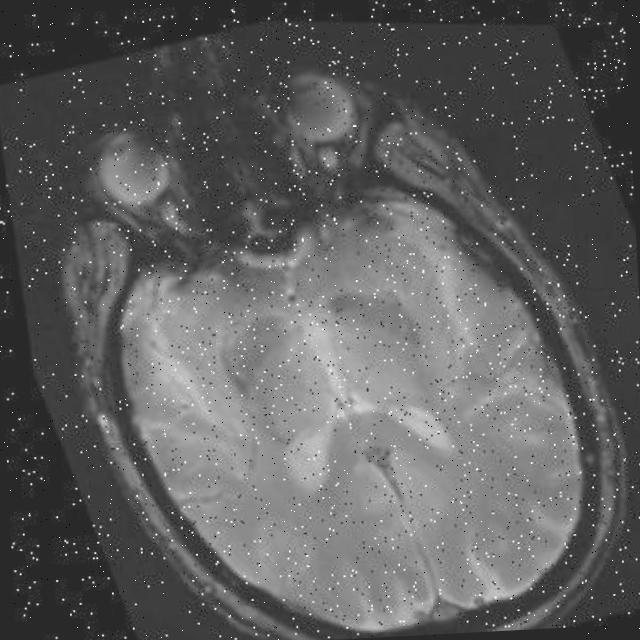EMCI: (420, 252, 530, 367)
